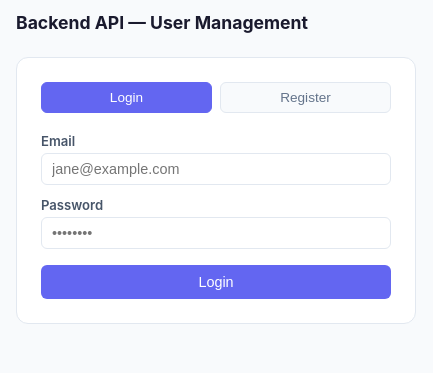
BackendPage — unauthenticated › shows error on failed login
This screenshot has width=433, height=373.
Step 1. Type "a@b.com" into the field with placeholder "jane@example.com" → (216, 169), box [41, 153, 391, 185]
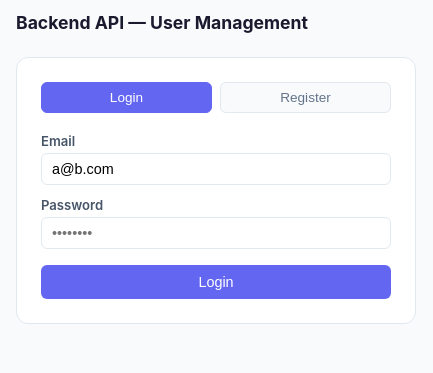
Step 2. Type "wrong" into the password field with placeholder "••••••••" → (216, 233), box [41, 217, 391, 249]
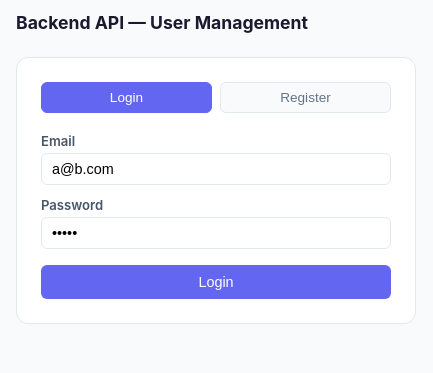
Note: The Login tab and the Login submit button both match /Login/ — take the last one (submit).
Step 3. Click the button "Login" below "Password" → click(216, 282), box [41, 265, 391, 299]
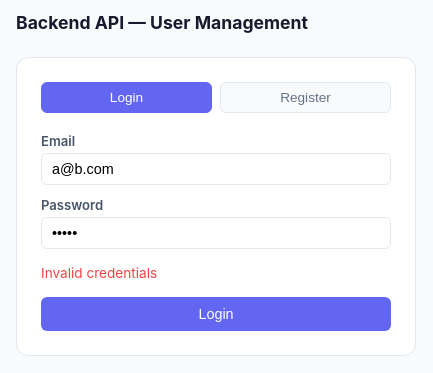
Expected: the text "Invalid credentials" is shown, [41, 265, 157, 281]
